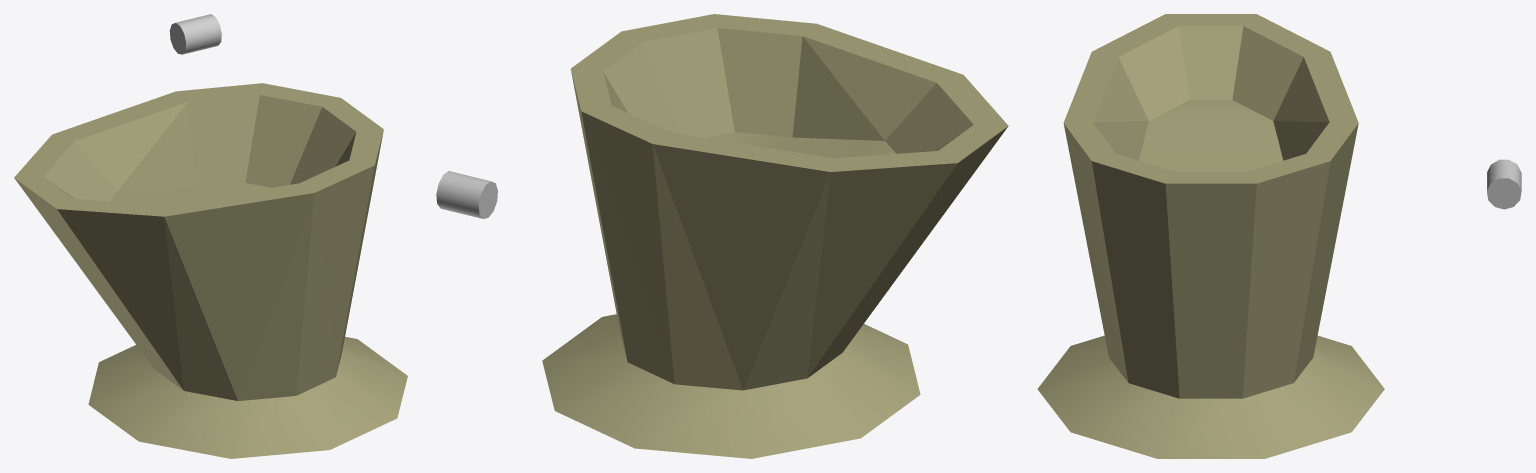
File: SM_Toilet_02.FBX
The picture shows the model from 3 angles, left to right: view 1: azimuth 30°, elevation 25°; view 2: azimuth 150°, elevation 25°; view 3: azimuth 270°, elevation 25°; orthographic projection. The views are drawn at different scales.
Parts seen in each view (by area): view 1: SM_Toilet_02; view 2: SM_Toilet_02; view 3: SM_Toilet_02.
Part boxes in pixels (left/top/right/bottom): SM_Toilet_02: left=14, top=14, right=407, bottom=458; SM_Toilet_02: left=436, top=14, right=1008, bottom=458; SM_Toilet_02: left=1037, top=14, right=1521, bottom=458.
Bounding box in the file's own units: 65.82 × 74.72 × 45.07.
